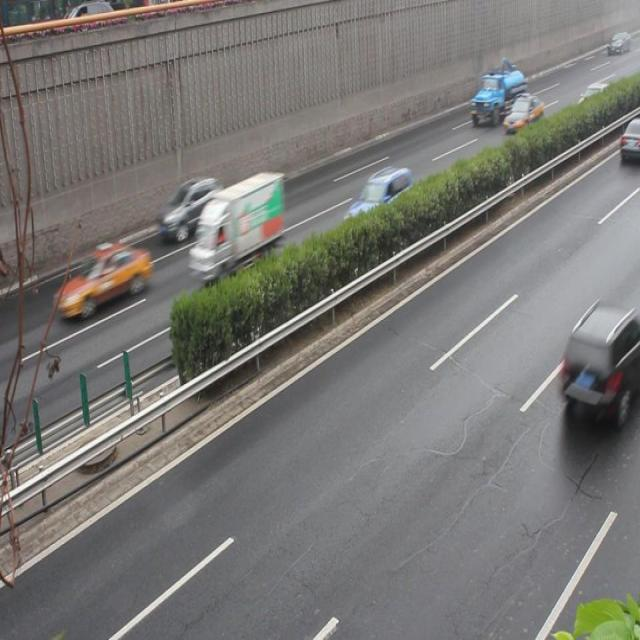bus: (190, 169, 282, 274), (467, 68, 526, 123)
car: (560, 306, 640, 424), (54, 242, 150, 318), (342, 166, 415, 236), (158, 178, 224, 238), (570, 83, 613, 128), (502, 93, 542, 133), (618, 118, 640, 168)
